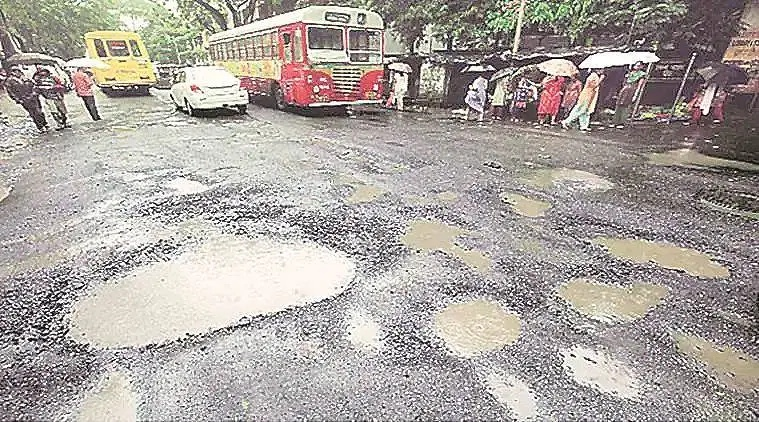pothole: (60, 201, 390, 367), (379, 196, 558, 299), (389, 264, 529, 369), (469, 156, 625, 232), (551, 264, 735, 325), (448, 351, 597, 413)
